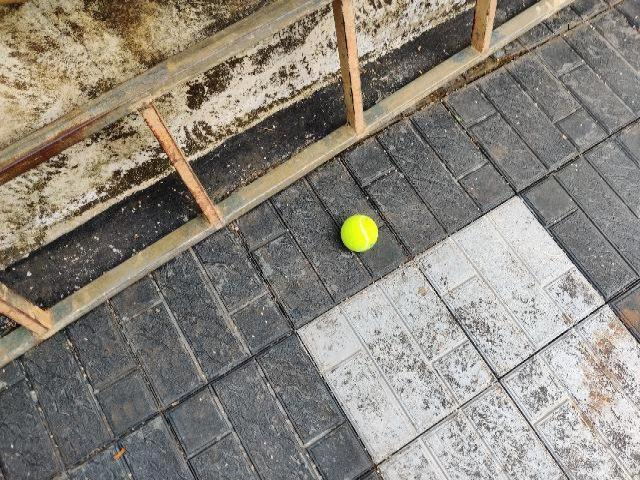tennis-ball: (340, 214, 378, 252)
